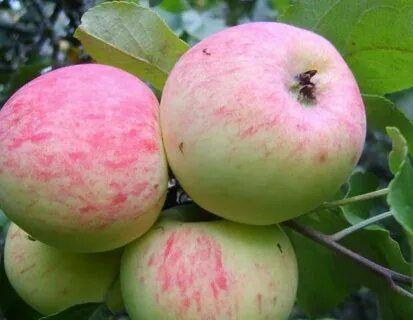Apple: (160, 21, 366, 226), (1, 64, 169, 254), (119, 204, 298, 318)
